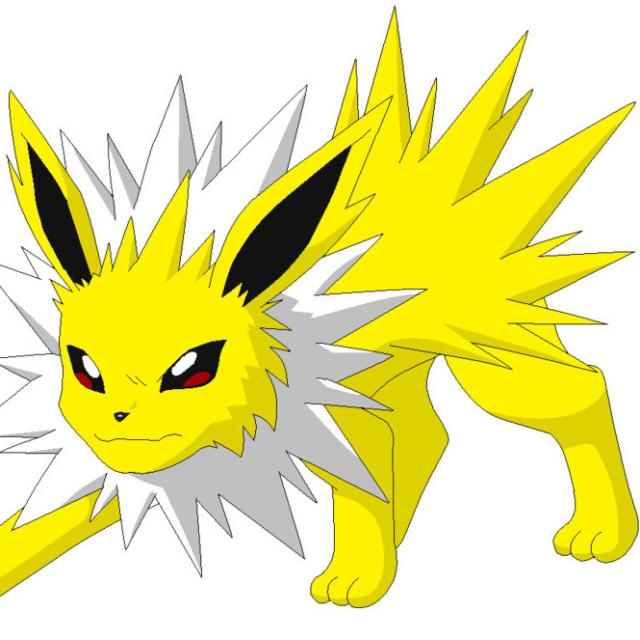Jolteon: (0, 119, 610, 550)
